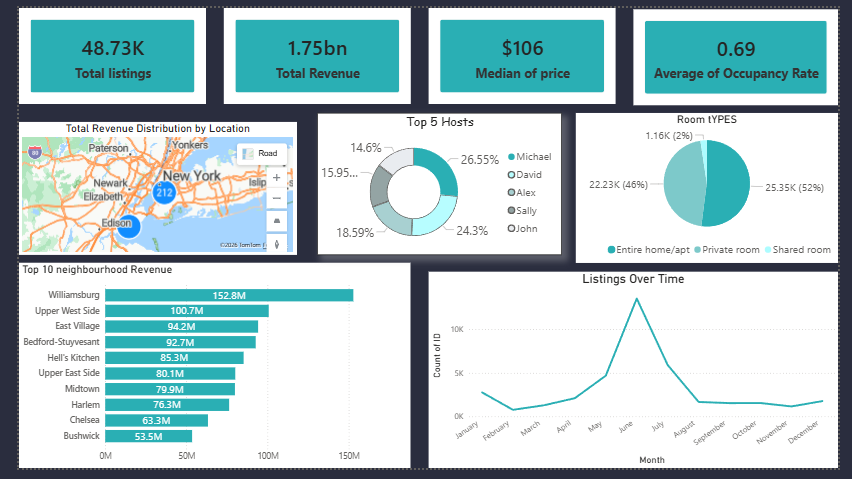

This screenshot's page, from the dashboard's own definition file:
{"tool":"powerbi","page":{"name":"Page 1","canvas":[1280,720],"ordinal":0},"visuals":[{"type":"clusteredBarChart","title":"Top 10 neighbourhood Revenue","fields":{"Category":["dim_area.neighbourhood"],"Y":["Sum(Fact_listings(2019).Estimated Revenue)"]},"box":[0,398,612,322],"z":0},{"type":"cardVisual","fields":{"Data":["Median(Fact_listings(2019).price)"]},"box":[640,0,292,150],"z":1000},{"type":"cardVisual","fields":{"Data":["Avg(Fact_listings(2019).Occupancy Rate)"]},"box":[960,2,320,150],"z":2000},{"type":"cardVisual","fields":{"Data":["Sum(Fact_listings(2019).Total_Revenue)"]},"box":[320,0,292,150],"z":3000},{"type":"cardVisual","fields":{"Data":["CountNonNull(Fact_listings(2019).ID)"]},"box":[0,0,292,150],"z":4000},{"type":"pieChart","title":"Room tYPES","fields":{"Category":["Fact_listings(2019).room_type"],"Y":["CountNonNull(Fact_listings(2019).ID)"]},"box":[870,164,410,234],"z":5000},{"type":"funnel","fields":{"Category":["Fact_listings(2019).Price_Tier"],"Y":["Sum(Fact_listings(2019).Total_Revenue)"]},"box":[898,472,306,248],"z":6000},{"type":"lineChart","title":"Listings Over Time","fields":{"Y":["CountNonNull(Fact_listings(2019).ID)"],"Category":["dim_date.date.Variation.Date Hierarchy.Month"]},"box":[640,412,640,308],"z":7000},{"type":"donutChart","title":"Top 5 Hosts","fields":{"Category":["dim_host.host_name"],"Y":["Sum(Fact_listings(2019).Total_Revenue)"]},"box":[466,164,382,222],"z":8000},{"type":"azureMap","title":"Total Revenue Distribution by Location","fields":{"Category":["Fact_listings(2019).Location Full "],"Y":["Avg(Fact_listings(2019).latitude)"],"X":["Avg(Fact_listings(2019).longitude)"],"Size":["Sum(Fact_listings(2019).Total_Revenue)"]},"box":[0,178,434,208],"z":9000}]}

Visuals, with their boxes in screenshot pixels (x1, y1, x2, y2), scaled from the page's 1280x720 canvas onto the 852x479 screenshot:
"Top 10 neighbourhood Revenue" clusteredBarChart: [left=0, top=265, right=407, bottom=478]
cardVisual - Median(Fact_listings(2019).price): [left=426, top=0, right=620, bottom=100]
cardVisual - Avg(Fact_listings(2019).Occupancy Rate): [left=639, top=1, right=851, bottom=101]
cardVisual - Sum(Fact_listings(2019).Total_Revenue): [left=213, top=0, right=407, bottom=100]
cardVisual - CountNonNull(Fact_listings(2019).ID): [left=0, top=0, right=194, bottom=100]
"Room tYPES" pieChart: [left=579, top=109, right=851, bottom=265]
funnel - Fact_listings(2019).Price_Tier x Sum(Fact_listings(2019).Total_Revenue): [left=598, top=314, right=801, bottom=478]
"Listings Over Time" lineChart: [left=426, top=274, right=851, bottom=478]
"Top 5 Hosts" donutChart: [left=310, top=109, right=564, bottom=257]
"Total Revenue Distribution by Location" azureMap: [left=0, top=118, right=289, bottom=257]
